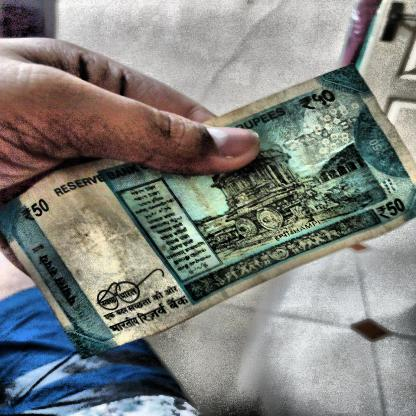Rs50: (15, 193, 62, 229), (371, 193, 416, 227)
